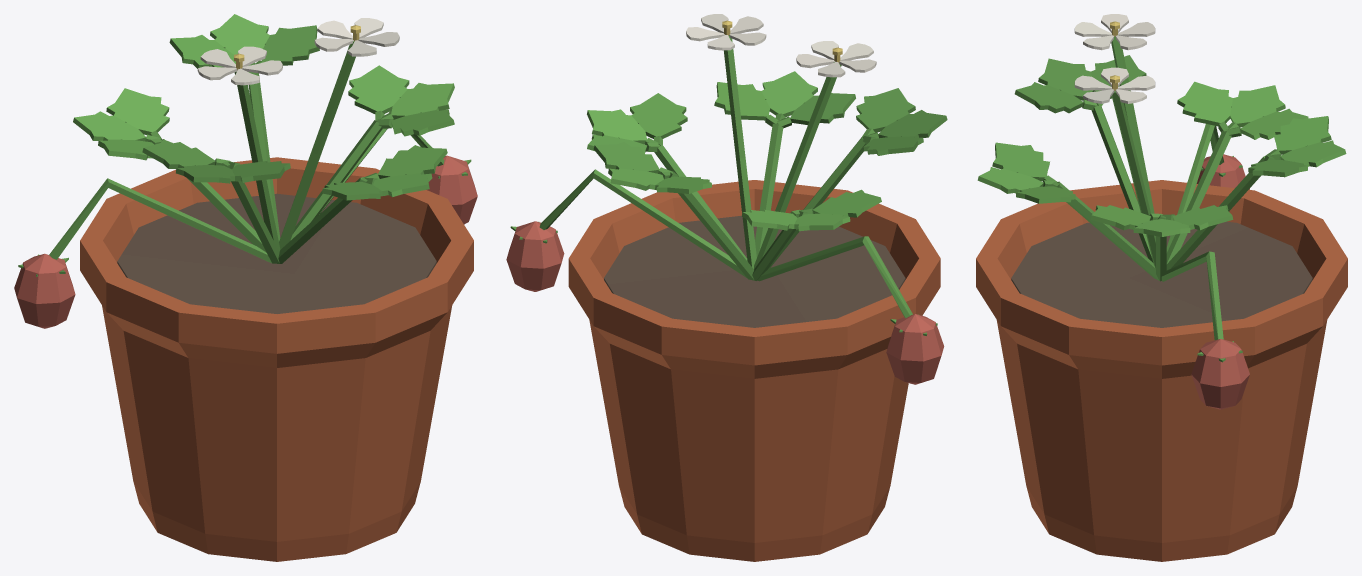
File: strawberry.glb
3 renders of one model, left to right at view 1: azimuth 30°, elevation 25°; view 2: azimuth 150°, elevation 25°; view 3: azimuth 270°, elevation 25°, orthographic. The views are drawn at different scales.
Visible parts, largest first — view 1: strawberry/review-terra-vessel, strawberry/review-rooted-soil, strawberry/strawberry-fruit-037, strawberry/stem-036, strawberry/petiole-058, strawberry/strawberry-fruit-044, strawberry/leaf-007, strawberry/leaf-017, strawberry/leaf-010, strawberry/petiole-050, strawberry/leaf-005, strawberry/leaf-035 (+15 smaller); view 2: strawberry/review-terra-vessel, strawberry/review-rooted-soil, strawberry/strawberry-fruit-037, strawberry/strawberry-fruit-044, strawberry/stem-043, strawberry/petiole-058, strawberry/petiole-050, strawberry/stem-036, strawberry/leaf-003, strawberry/leaf-028, strawberry/leaf-033, strawberry/leaf-005 (+15 smaller); view 3: strawberry/review-terra-vessel, strawberry/review-rooted-soil, strawberry/strawberry-fruit-044, strawberry/leaf-021, strawberry/petiole-058, strawberry/leaf-019, strawberry/leaf-014, strawberry/leaf-031, strawberry/petiole-022, strawberry/stem-043, strawberry/petiole-015, strawberry/leaf-028 (+15 smaller).
Boxes of the visible parts, x1,y1,x2,y2 form: strawberry/review-terra-vessel: (80, 157, 473, 561); strawberry/review-rooted-soil: (117, 193, 436, 313); strawberry/strawberry-fruit-037: (14, 253, 75, 328); strawberry/stem-036: (49, 178, 271, 263); strawberry/petiole-058: (279, 41, 355, 249); strawberry/strawberry-fruit-044: (426, 155, 477, 224); strawberry/leaf-007: (348, 65, 409, 113); strawberry/leaf-017: (106, 88, 169, 135); strawberry/leaf-010: (262, 25, 319, 65); strawberry/petiole-050: (234, 71, 280, 251); strawberry/leaf-005: (391, 83, 454, 119); strawberry/leaf-035: (378, 145, 447, 178); strawberry/review-terra-vessel: (568, 180, 940, 561); strawberry/review-rooted-soil: (604, 215, 905, 327); strawberry/strawberry-fruit-037: (886, 314, 944, 384); strawberry/strawberry-fruit-044: (506, 221, 564, 291); strawberry/stem-043: (539, 169, 747, 278); strawberry/petiole-058: (723, 35, 756, 268); strawberry/petiole-050: (754, 62, 841, 268); strawberry/stem-036: (757, 236, 912, 317); strawberry/leaf-003: (630, 93, 687, 138); strawberry/leaf-028: (856, 88, 915, 132); strawberry/leaf-033: (761, 71, 817, 117); strawberry/leaf-005: (587, 109, 646, 144); strawberry/review-terra-vessel: (976, 180, 1347, 561); strawberry/review-rooted-soil: (1011, 221, 1312, 327); strawberry/strawberry-fruit-044: (1191, 339, 1249, 409); strawberry/leaf-021: (1177, 81, 1232, 126); strawberry/petiole-058: (1111, 91, 1155, 268); strawberry/leaf-019: (1230, 85, 1285, 127); strawberry/leaf-014: (1274, 116, 1331, 154); strawberry/leaf-031: (992, 142, 1049, 181); strawberry/petiole-022: (1091, 105, 1153, 262); strawberry/stem-043: (1161, 251, 1223, 340); strawberry/petiole-015: (1166, 131, 1231, 263); strawberry/leaf-028: (1014, 82, 1083, 113).
Bounding box in the file's own units: 0.255 × 0.2569 × 0.19.
Materials: 6 (6 with a texture image).
